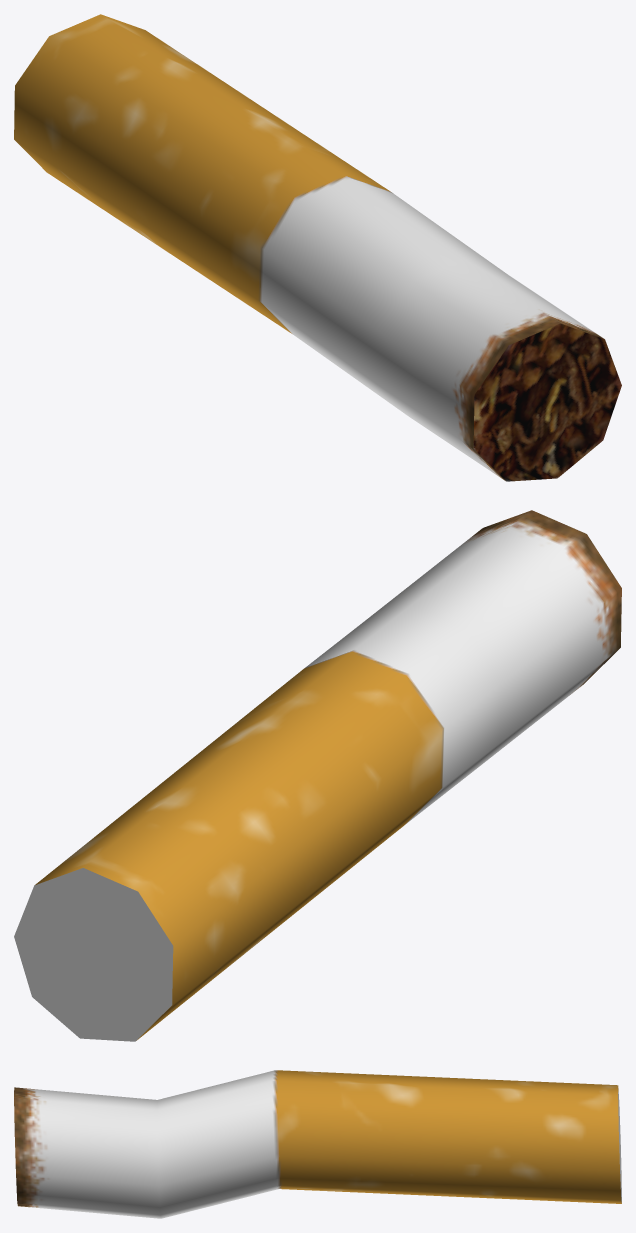
Rendered from cigaretteUsed1.fbx.
3 renders of one model, top to bottom at view 1: azimuth 30°, elevation 25°; view 2: azimuth 150°, elevation 25°; view 3: azimuth 270°, elevation 25°, orthographic. The views are drawn at different scales.
Parts seen in each view (by area): view 1: cigaretteUsed1; view 2: cigaretteUsed1; view 3: cigaretteUsed1.
Boxes of the visible parts, x1,y1,x2,y2 form: cigaretteUsed1: [14, 14, 621, 481]; cigaretteUsed1: [14, 510, 621, 1041]; cigaretteUsed1: [14, 1070, 621, 1218].
Size of the model in its own units: 0.0167 by 0.0164 by 0.0711.
Materials: 1 (1 with a texture image).
